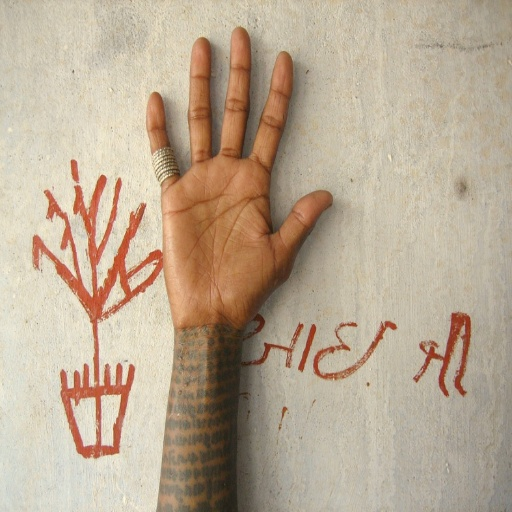hand: (144, 24, 333, 329)
